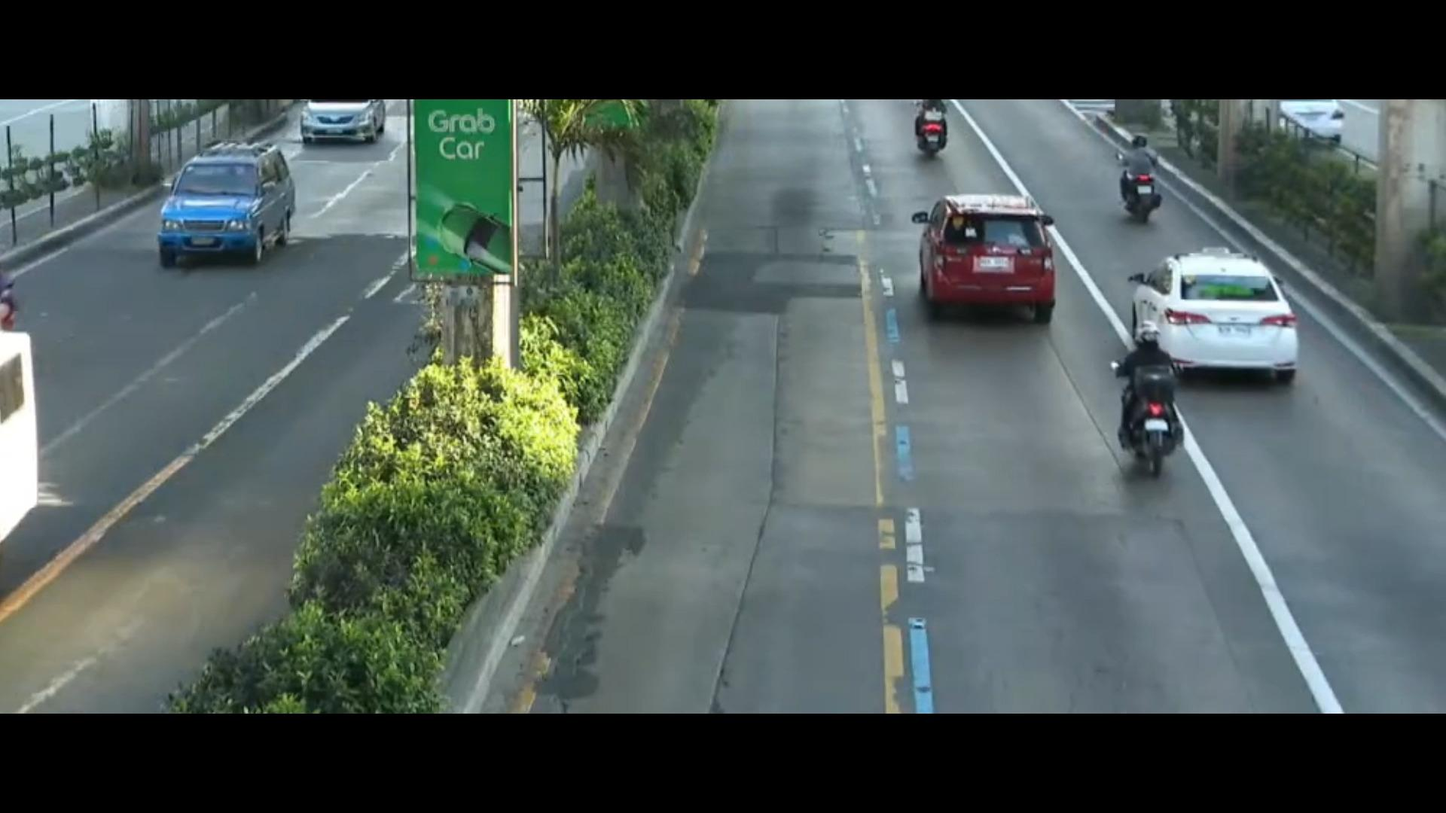Motorcycle: (1102, 324, 1200, 496), (1096, 128, 1185, 232), (910, 105, 968, 164)
SUV: (114, 119, 319, 287), (887, 185, 1070, 325)
Sedan: (1115, 243, 1314, 399)
